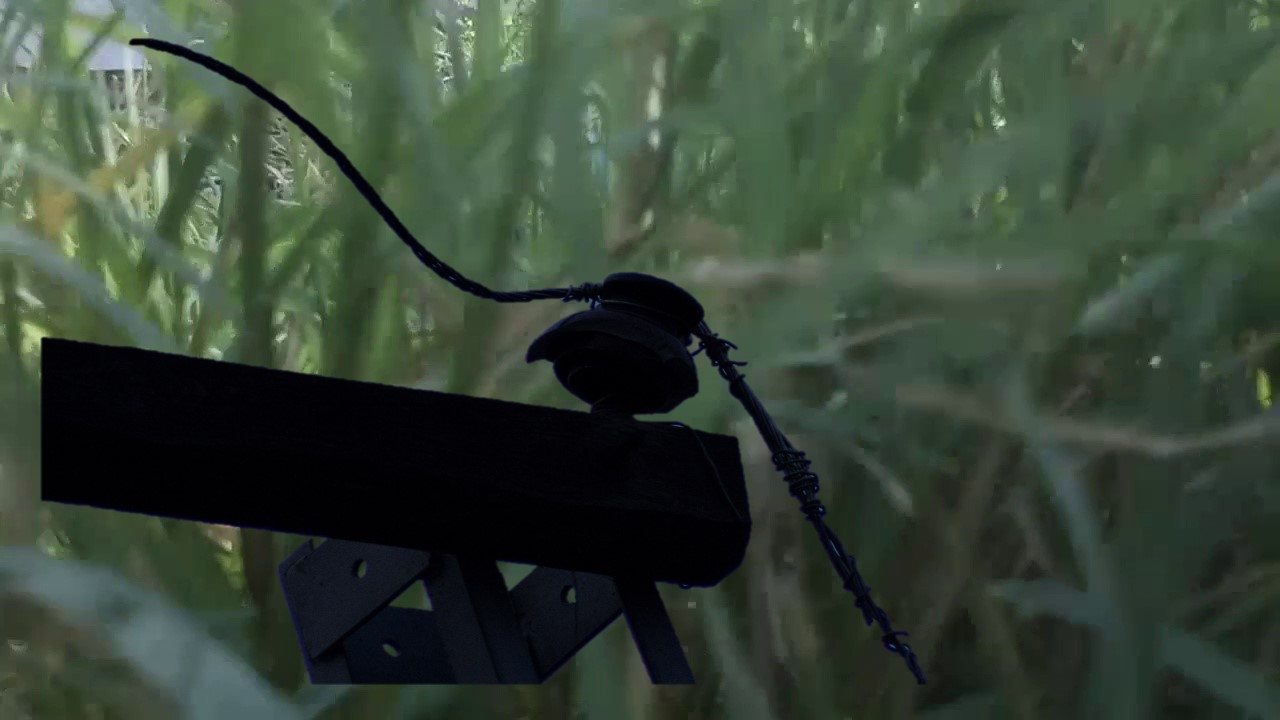defect_pin: (525, 265, 709, 423)
